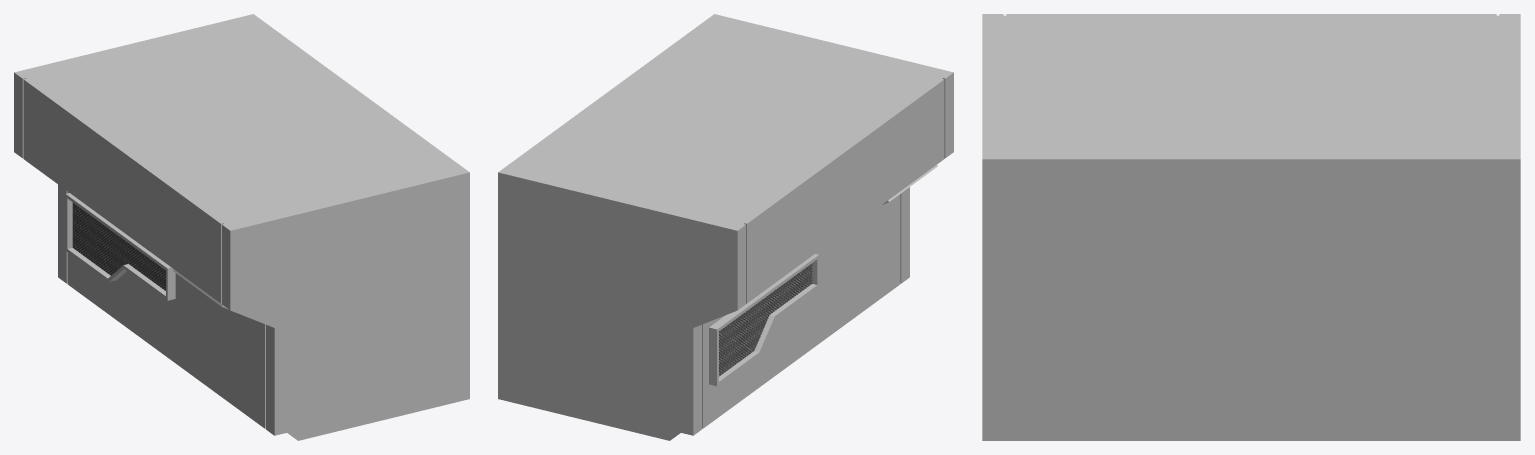
File: Desk_04_B.FBX
The picture shows the model from 3 angles, left to right: view 1: azimuth 30°, elevation 25°; view 2: azimuth 150°, elevation 25°; view 3: azimuth 270°, elevation 25°; orthographic projection. The views are drawn at different scales.
Parts seen in each view (by area): view 1: Desk_04_B_LOD0; view 2: Desk_04_B_LOD0; view 3: Desk_04_B_LOD0.
Part boxes in pixels (box(x1,y1,x2,y2)): Desk_04_B_LOD0: box(14, 14, 469, 440); Desk_04_B_LOD0: box(498, 14, 953, 440); Desk_04_B_LOD0: box(982, 14, 1520, 440).
Size of what is drawn, in the model's own units: 46 by 41.6 by 72.
